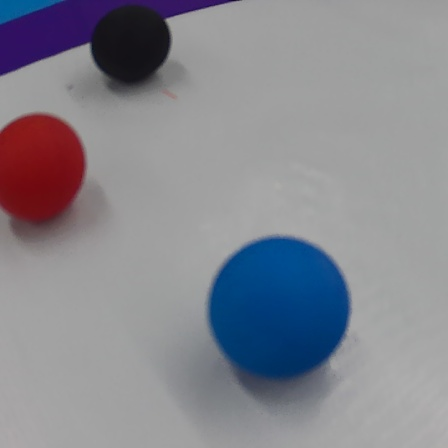black: (86, 7, 174, 83)
blue: (204, 234, 354, 384)
red: (2, 114, 85, 226)
